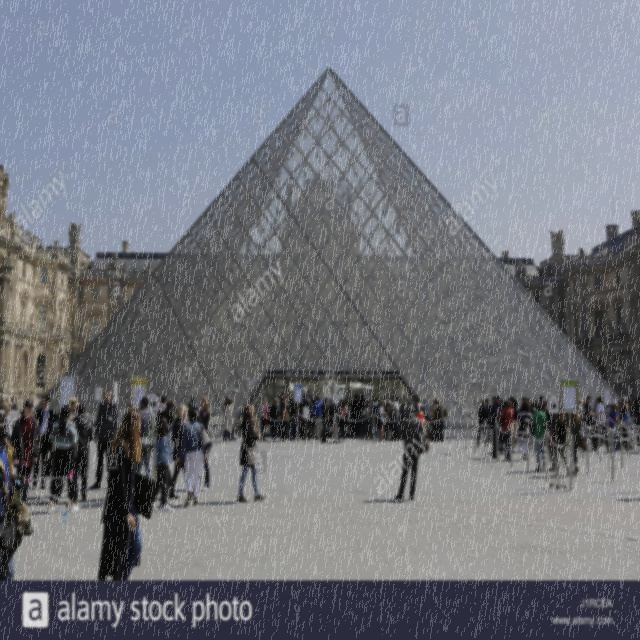pessoa: (98, 408, 144, 581), (8, 486, 242, 514), (0, 404, 30, 580), (44, 402, 82, 515), (8, 397, 42, 507), (175, 407, 212, 508), (394, 404, 432, 502), (88, 388, 122, 491), (467, 448, 569, 480), (168, 402, 200, 498), (236, 402, 266, 503), (29, 393, 58, 491), (70, 402, 94, 504), (150, 416, 174, 514), (190, 394, 213, 492), (136, 396, 158, 480), (528, 402, 550, 474), (552, 410, 572, 478), (516, 399, 534, 462), (544, 403, 560, 473), (570, 412, 586, 478), (498, 400, 514, 463), (607, 402, 626, 454), (350, 392, 370, 440), (617, 402, 636, 452), (583, 394, 598, 452), (490, 394, 503, 460), (476, 397, 492, 449), (432, 396, 448, 443), (300, 390, 314, 440), (336, 398, 351, 444), (222, 398, 238, 441), (0, 162, 10, 230), (268, 397, 282, 442), (0, 401, 14, 444), (595, 395, 606, 448), (388, 394, 400, 442), (278, 396, 290, 443), (290, 394, 302, 440), (512, 399, 522, 454), (312, 396, 324, 440), (367, 395, 379, 439), (432, 398, 444, 442), (287, 395, 298, 442), (257, 396, 268, 442), (631, 396, 640, 446), (548, 229, 564, 255), (376, 400, 386, 440), (360, 497, 410, 505), (414, 394, 426, 426), (67, 396, 81, 422), (320, 396, 330, 429), (168, 393, 178, 425), (162, 400, 175, 424), (68, 222, 81, 246), (327, 396, 335, 432), (186, 394, 200, 414), (106, 252, 118, 272), (618, 392, 636, 404), (0, 247, 10, 268), (527, 394, 537, 414), (538, 394, 549, 412), (8, 209, 15, 236), (160, 395, 170, 413), (308, 406, 314, 434), (59, 308, 65, 336), (399, 395, 406, 418), (515, 261, 526, 275), (630, 226, 638, 244), (20, 306, 26, 330), (278, 390, 288, 403), (604, 403, 614, 416), (484, 398, 492, 414), (498, 432, 506, 448), (576, 318, 582, 339), (377, 394, 392, 402), (77, 324, 83, 344), (223, 394, 230, 410), (578, 398, 586, 412), (66, 319, 72, 336), (382, 402, 392, 412), (592, 396, 598, 412), (626, 402, 634, 414), (499, 398, 506, 411), (183, 411, 189, 426), (619, 315, 624, 333), (53, 238, 59, 252), (82, 258, 88, 272), (606, 316, 610, 336), (387, 412, 390, 436), (606, 244, 612, 256), (148, 260, 154, 272), (507, 396, 514, 406), (566, 326, 571, 340), (30, 312, 34, 329), (618, 402, 623, 415), (31, 233, 36, 246), (64, 246, 70, 256), (578, 248, 584, 258), (384, 422, 387, 439), (124, 260, 128, 272), (166, 401, 169, 416), (128, 401, 134, 408), (491, 395, 496, 403), (40, 234, 44, 244), (522, 394, 528, 400), (278, 390, 282, 398), (396, 396, 400, 404), (635, 396, 638, 402), (281, 389, 285, 392)
